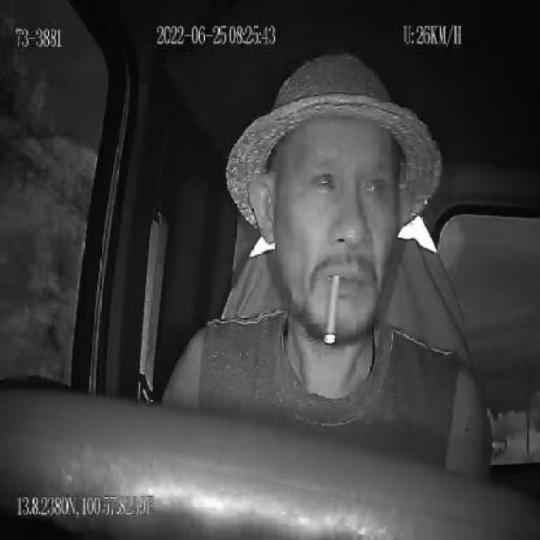smoking: (324, 268, 343, 347)
